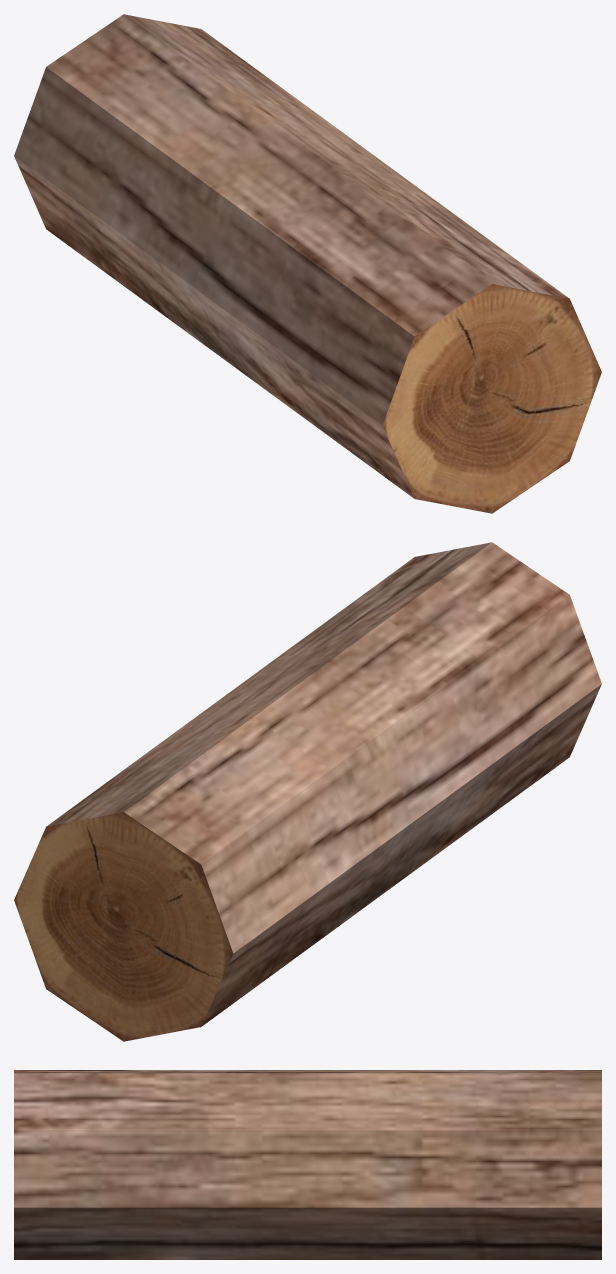
Rendered from Log.fbx.
3 views of the same model, one above another, from view 1: azimuth 30°, elevation 25°; view 2: azimuth 150°, elevation 25°; view 3: azimuth 270°, elevation 25° (orthographic). The views are drawn at different scales.
Visible parts, largest first — view 1: Cylinder.005; view 2: Cylinder.005; view 3: Cylinder.005.
Boxes of the visible parts, x1,y1,x2,y2 form: Cylinder.005: [14, 14, 601, 513]; Cylinder.005: [14, 542, 601, 1041]; Cylinder.005: [14, 1070, 601, 1259].
Size of the model in its own units: 146 by 146 by 424.
Materials: 1 (1 with a texture image).
